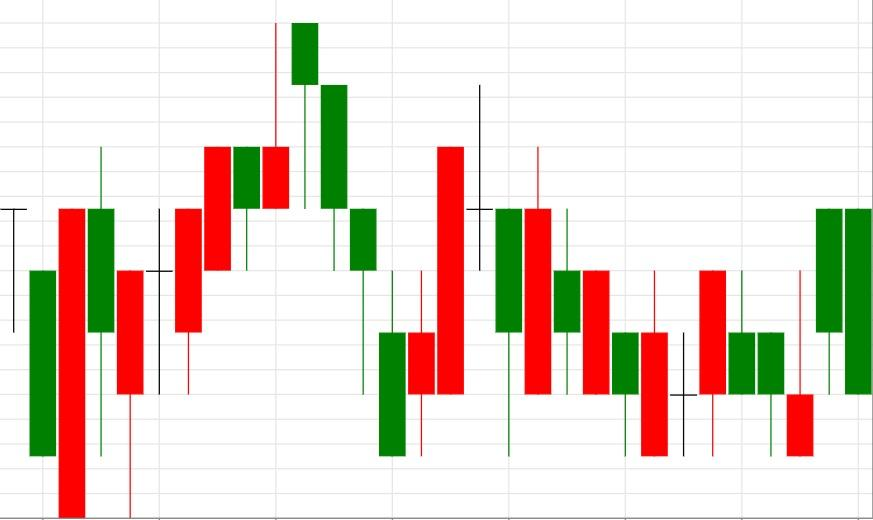inverse_hammer_rise: (698, 269, 814, 458)
three_black_crows_fall: (28, 22, 378, 518)
